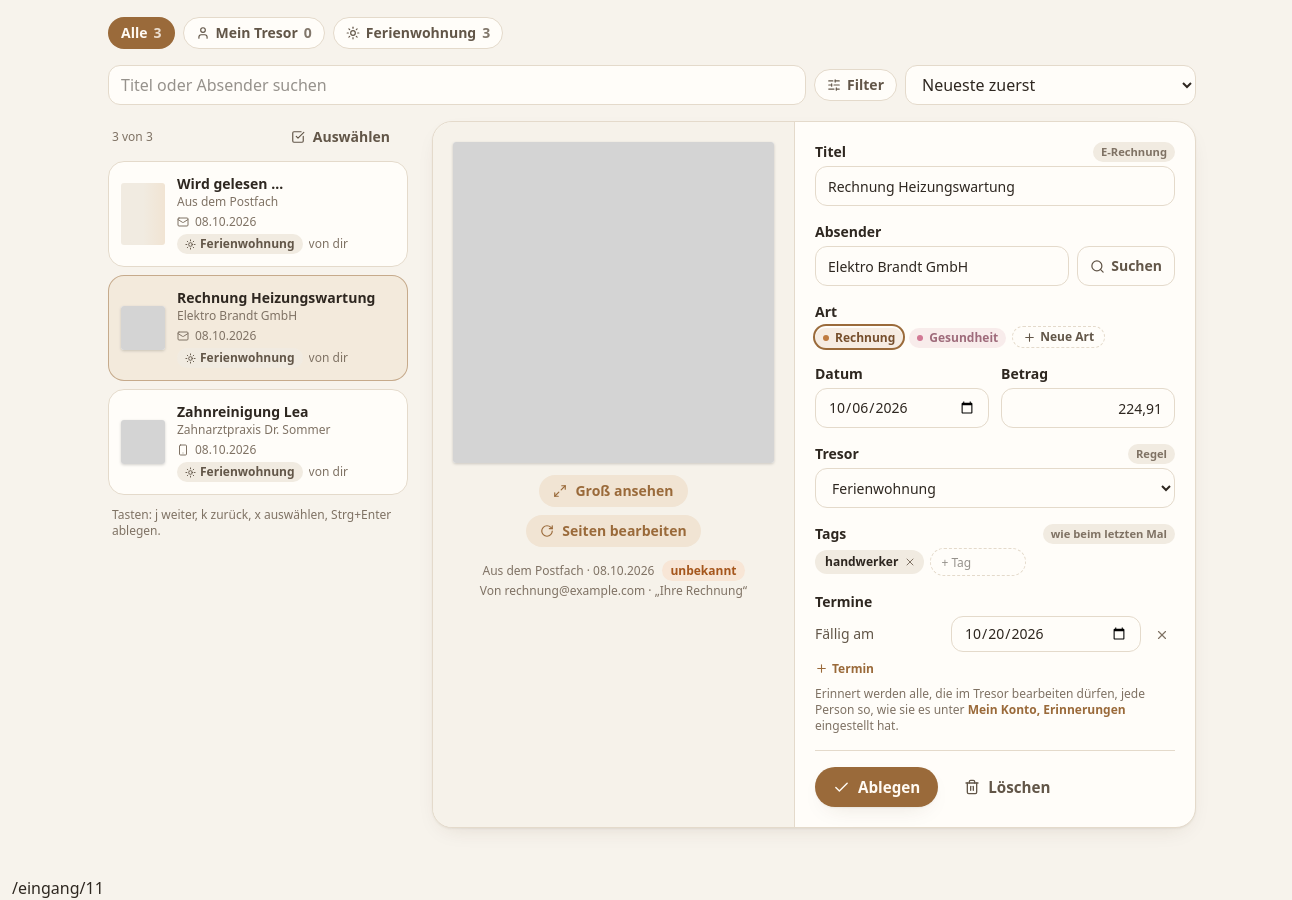
Test: the inbox › says what the server refused and stays
The width and height of the screenshot is (1292, 900).
(page scrolled)
Click the button "Ablegen" at (877, 787), box [815, 767, 938, 807]
(page scrolled)
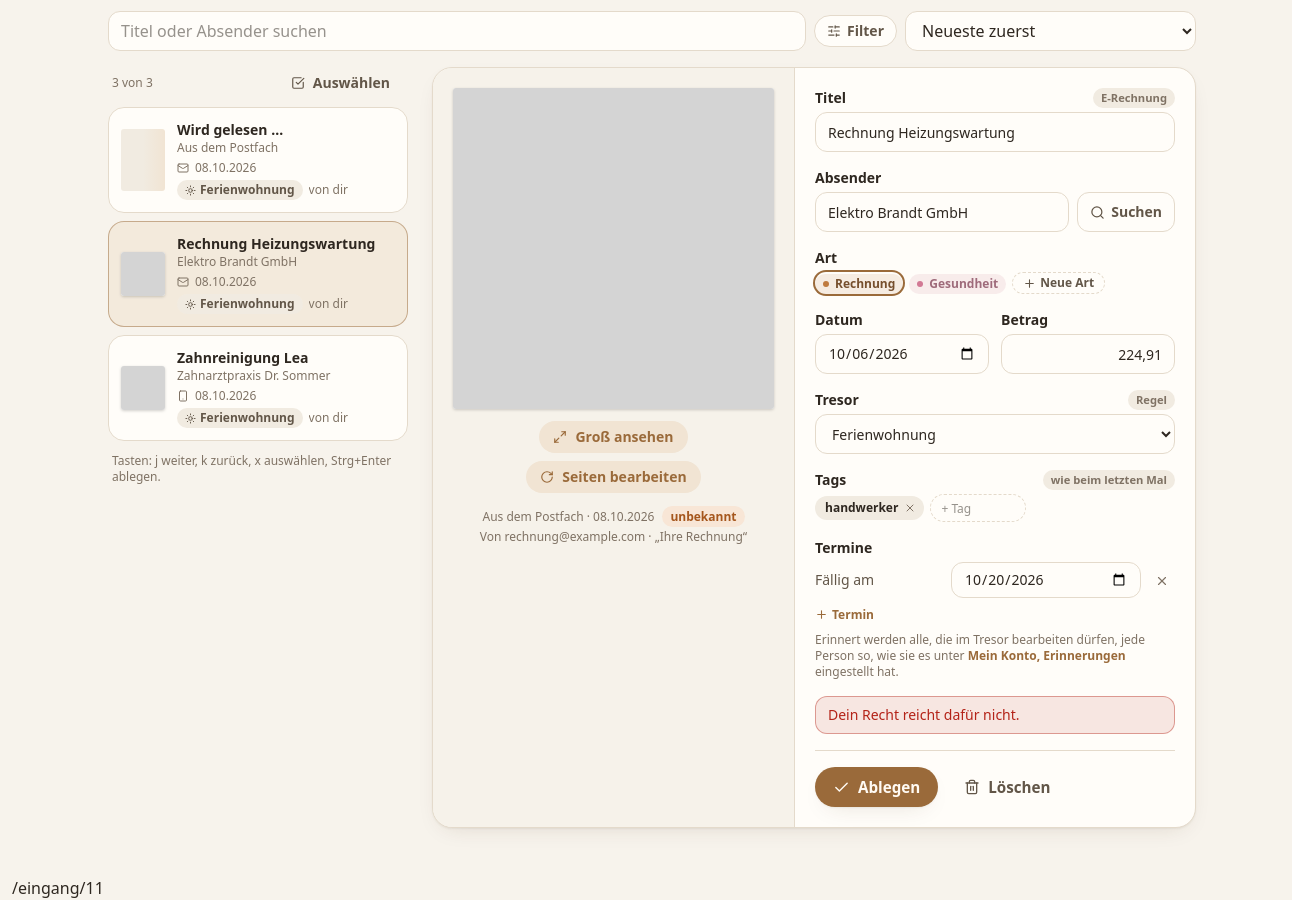
Expected: the text with test id "where" reads "/eingang/11", [12, 877, 104, 899]
Expected: the message "Dein Recht reicht dafür nicht." is shown, [815, 696, 1175, 734]
